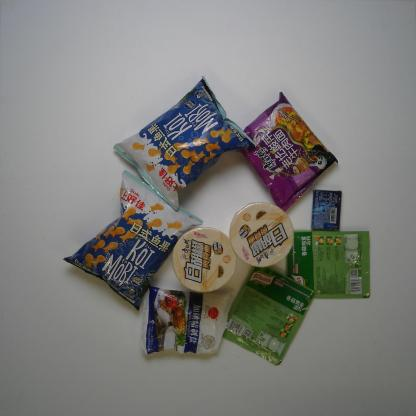Gum: (311, 189, 342, 232)
Instant Noodles: (232, 91, 338, 212), (172, 224, 240, 299), (231, 199, 296, 269)
Puffed Food: (63, 167, 204, 313), (112, 73, 257, 213)
Seasoner: (221, 265, 318, 367), (142, 275, 231, 366), (283, 230, 371, 300)
